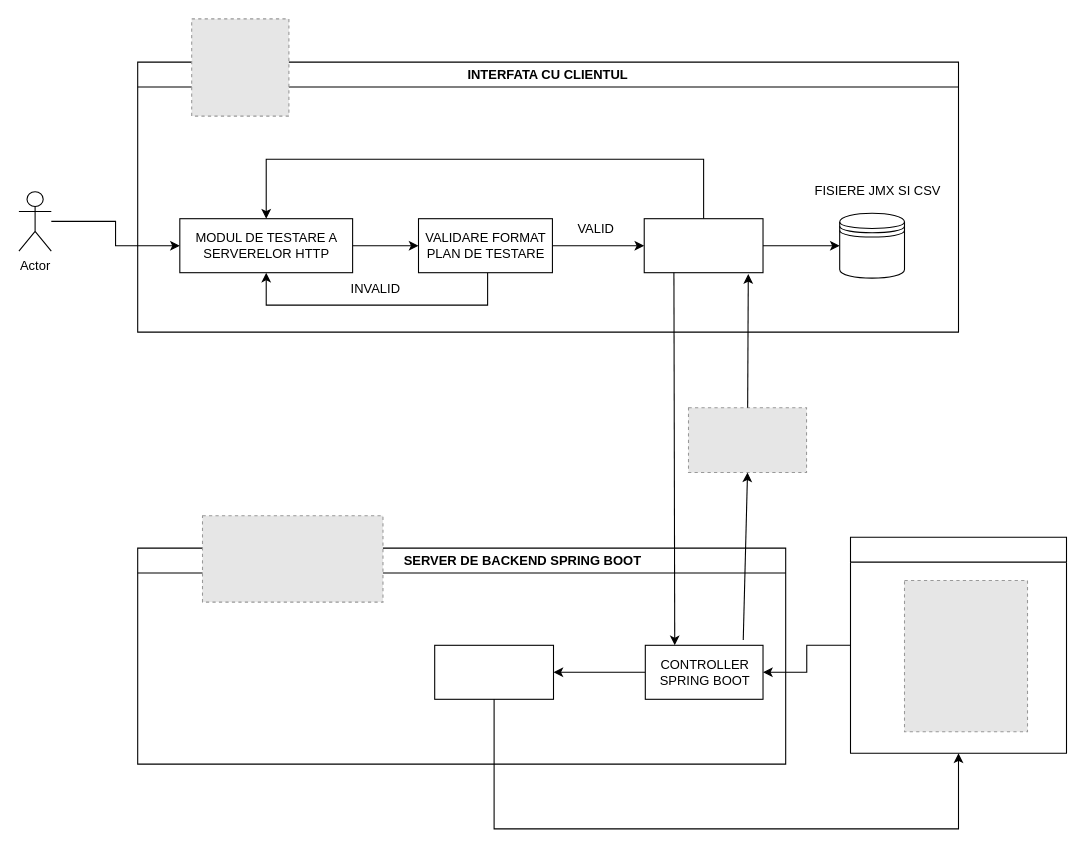
Some shapes in this 1085 by 856 pixel diagram are drawn without their labels. Grey dashed boxes stand in for pictures. The shapes that lost their labels are listed below. From the top down, each one's box as (x1, y1, x2, y2) in pixels, then its label:
(643, 218, 763, 273): MODUL HTTPCLIENT
(849, 536, 1066, 753): INFRASTRUCTURA TESTATA
(434, 644, 554, 699): BIBLIOTECI APACHE JMETER
